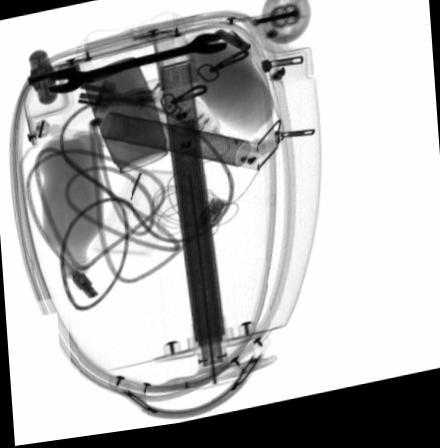Wrench: (48, 38, 227, 95)
